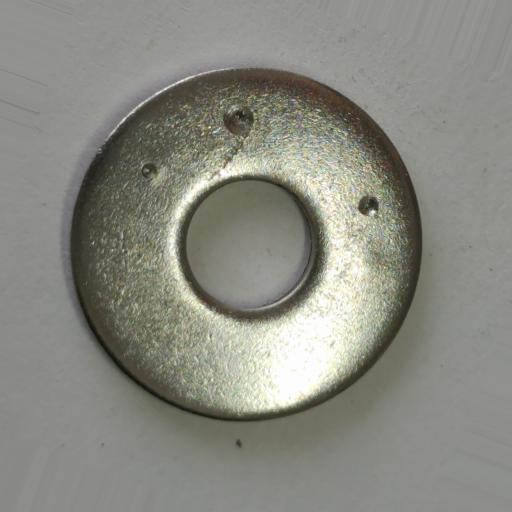circular_cavity: (223, 104, 256, 134), (358, 195, 379, 215), (141, 162, 158, 178)
